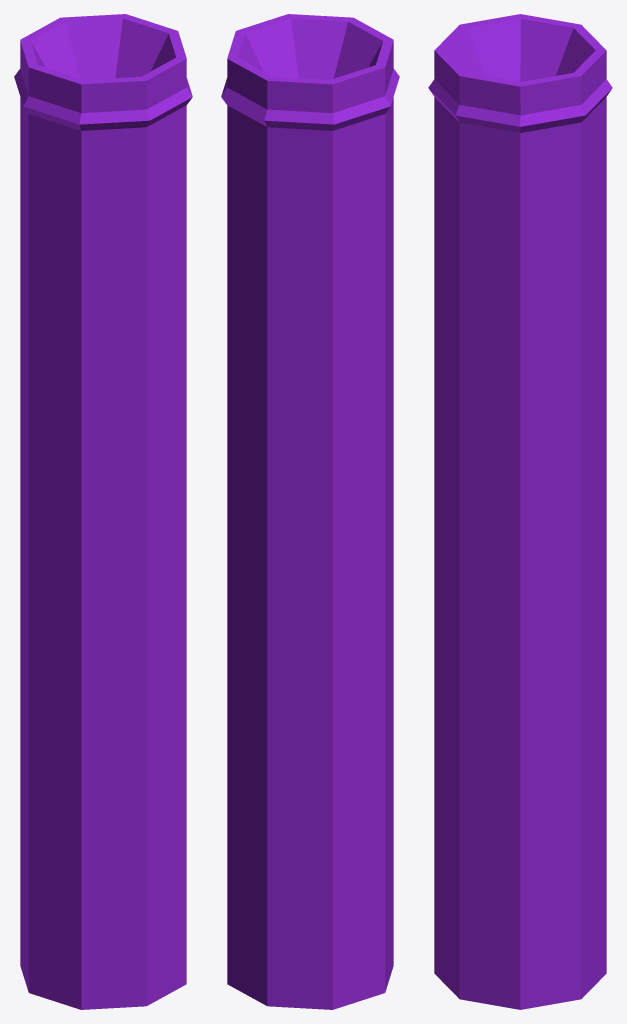
File: thymine.fbx
The picture shows the model from 3 angles, left to right: view 1: azimuth 30°, elevation 25°; view 2: azimuth 150°, elevation 25°; view 3: azimuth 270°, elevation 25°; orthographic projection.
Visible parts, largest first — view 1: thymine; view 2: thymine; view 3: thymine.
Part boxes in pixels (x1,y1,x2,y2): thymine: (14, 14, 192, 1009); thymine: (221, 14, 399, 1009); thymine: (428, 14, 612, 1009).
Size of the model in its own units: 9.01 by 49.71 by 9.01.
